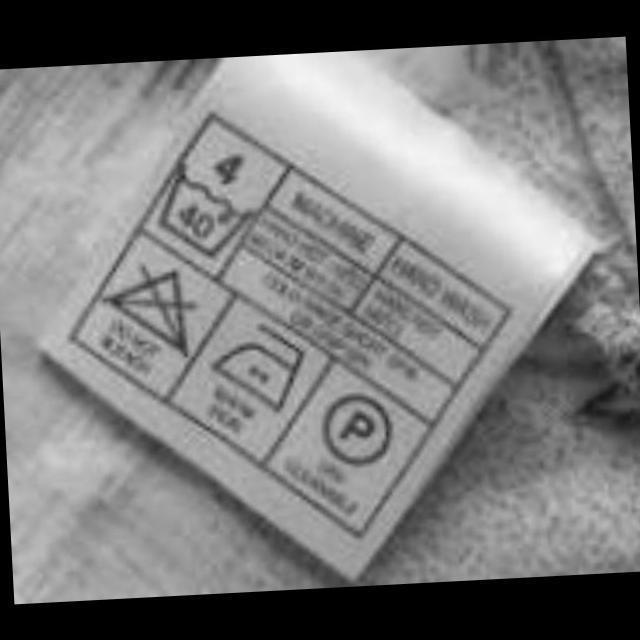40C: (150, 154, 260, 268)
DN_bleach: (97, 254, 202, 370)
iron_medium: (205, 314, 314, 422)
normal_dry_clean_solvents: (314, 383, 398, 473)
